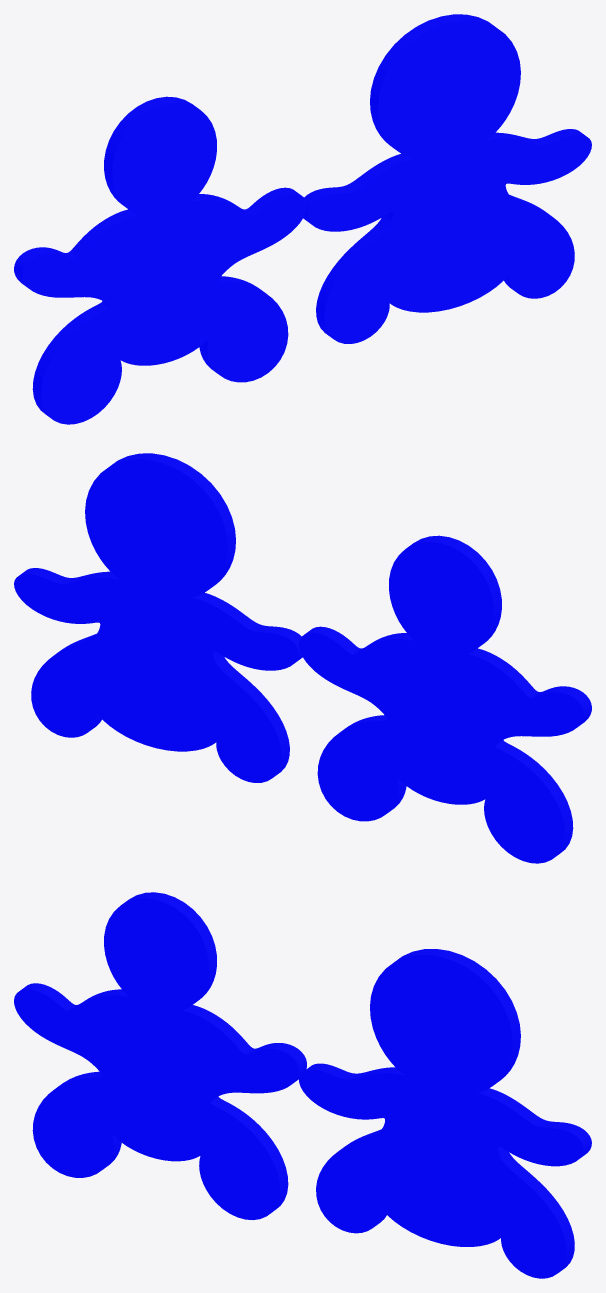
The model's file is Man&Woman.glb.
3 renders of one model, top to bottom at view 1: azimuth 30°, elevation 25°; view 2: azimuth 150°, elevation 25°; view 3: azimuth 330°, elevation 25°, orthographic.
Bounding box in the file's own units: 2 × 1.04 × 0.05.
